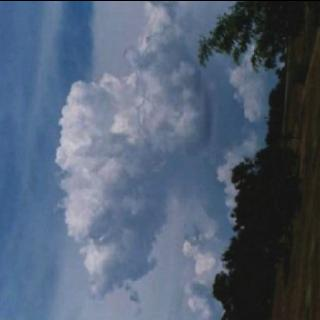Cirrostratus: (55, 0, 256, 320)
